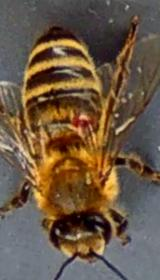varroa_mite: (54, 101, 105, 141)
